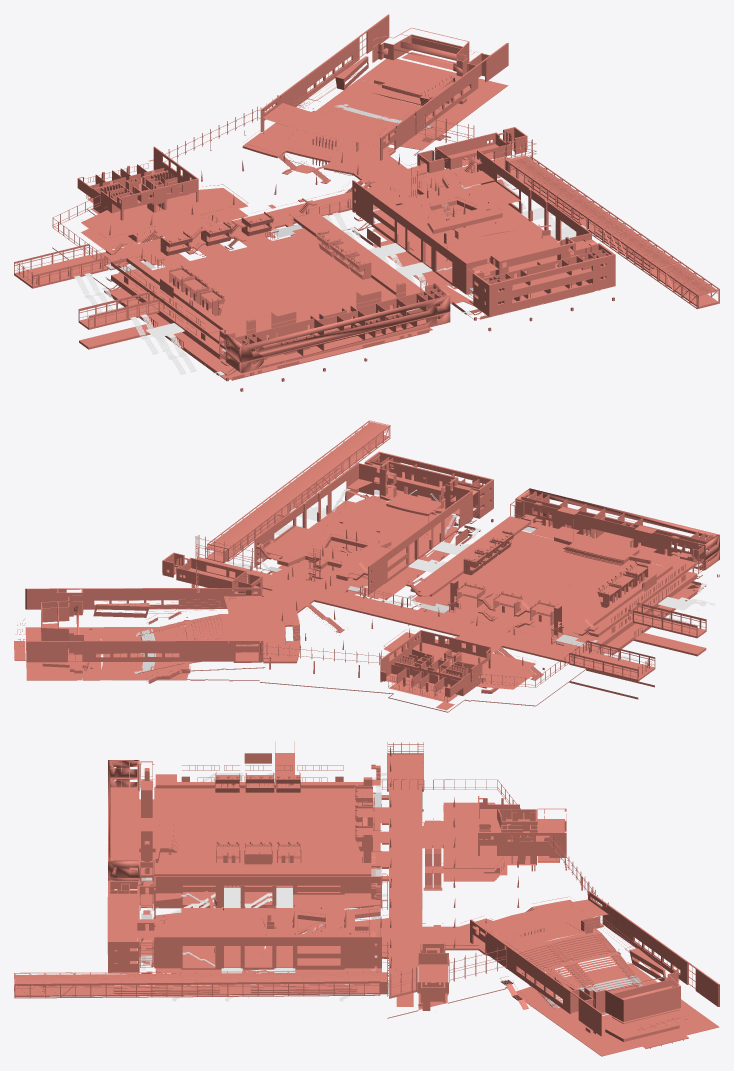
The model's file is collision-review-v5-exact.glb.
The picture shows the model from 3 angles, top to bottom: view 1: azimuth 30°, elevation 25°; view 2: azimuth 150°, elevation 25°; view 3: azimuth 270°, elevation 25°; orthographic projection. The views are drawn at different scales.
Parts seen in each view (by area): view 1: COLLIDER_Boden_14_NEW, COLLIDER_obj_1_OG_Boden_003, COLLIDER_floor_bt2_2OG_K, COLLIDER_obj_1_OG_Boden_002, COLLIDER_node_11, COLLIDER_floor_bt2_1og, COLLIDER_Langer_Gang_Innen_002, COLLIDER_halle14_technik_boden_11, COLLIDER_fassade007_002, COLLIDER_halle14_technik_boden_2OG, COLLIDER_obj_1_OG_Boden_004, COLLIDER_zusatz_bt1_2og_waende (+46 smaller); view 2: COLLIDER_Boden_14_NEW, COLLIDER_obj_1_OG_Boden_002, COLLIDER_halle14_technik_boden_11, COLLIDER_floor_bt2_2OG_K, COLLIDER_node_22, COLLIDER_zusatz_bt1_2og_waende, COLLIDER_floor_bt2_1og, COLLIDER_saal13_boden, COLLIDER_Langer_Gang_Innen_002, COLLIDER_bt3_suedwest, COLLIDER_node_11, COLLIDER_halle14_technik_boden_2OG (+52 smaller); view 3: COLLIDER_Boden_14_NEW, COLLIDER_obj_1_OG_Boden_002, COLLIDER_node_22, COLLIDER_halle14_technik_boden_2OG, COLLIDER_obj_1_OG_Boden_003, COLLIDER_fassade_1_004, COLLIDER_floor_bt2_1og, COLLIDER_Langer_Gang_Innen_002, COLLIDER_floor_bt2_2OG_K, COLLIDER_halle14_technik_boden_11, COLLIDER_saal13_boden, COLLIDER_node_11 (+42 smaller).
Boxes of the visible parts, x1,y1,x2,y2 form: COLLIDER_Boden_14_NEW: [142, 233, 392, 339]; COLLIDER_obj_1_OG_Boden_003: [81, 186, 248, 240]; COLLIDER_floor_bt2_2OG_K: [373, 174, 520, 234]; COLLIDER_obj_1_OG_Boden_002: [91, 157, 514, 269]; COLLIDER_node_11: [316, 79, 508, 286]; COLLIDER_floor_bt2_1og: [372, 188, 573, 289]; COLLIDER_Langer_Gang_Innen_002: [506, 155, 717, 295]; COLLIDER_halle14_technik_boden_11: [111, 228, 419, 359]; COLLIDER_fassade007_002: [241, 295, 450, 362]; COLLIDER_halle14_technik_boden_2OG: [112, 212, 424, 344]; COLLIDER_obj_1_OG_Boden_004: [242, 122, 395, 174]; COLLIDER_zusatz_bt1_2og_waende: [228, 285, 445, 351]; COLLIDER_Boden_14_NEW: [439, 534, 672, 638]; COLLIDER_obj_1_OG_Boden_002: [197, 556, 584, 663]; COLLIDER_halle14_technik_boden_11: [411, 527, 697, 650]; COLLIDER_floor_bt2_2OG_K: [274, 526, 405, 580]; COLLIDER_node_22: [138, 565, 543, 679]; COLLIDER_zusatz_bt1_2og_waende: [521, 491, 712, 554]; COLLIDER_floor_bt2_1og: [272, 495, 458, 593]; COLLIDER_saal13_boden: [331, 491, 447, 550]; COLLIDER_Langer_Gang_Innen_002: [205, 422, 388, 552]; COLLIDER_bt3_suedwest: [26, 641, 263, 653]; COLLIDER_node_11: [81, 555, 425, 680]; COLLIDER_halle14_technik_boden_2OG: [410, 516, 696, 636]; COLLIDER_Boden_14_NEW: [155, 799, 381, 862]; COLLIDER_obj_1_OG_Boden_002: [374, 789, 422, 998]; COLLIDER_node_22: [293, 820, 643, 1008]; COLLIDER_halle14_technik_boden_2OG: [154, 774, 371, 876]; COLLIDER_obj_1_OG_Boden_003: [422, 802, 529, 871]; COLLIDER_fassade_1_004: [154, 876, 381, 958]; COLLIDER_floor_bt2_1og: [155, 908, 381, 972]; COLLIDER_Langer_Gang_Innen_002: [14, 972, 388, 983]; COLLIDER_floor_bt2_2OG_K: [276, 894, 380, 952]; COLLIDER_halle14_technik_boden_11: [137, 787, 354, 891]; COLLIDER_saal13_boden: [139, 912, 266, 963]; COLLIDER_node_11: [151, 948, 687, 1034].
Size of the model in its own units: 186 by 16.9 by 196.
